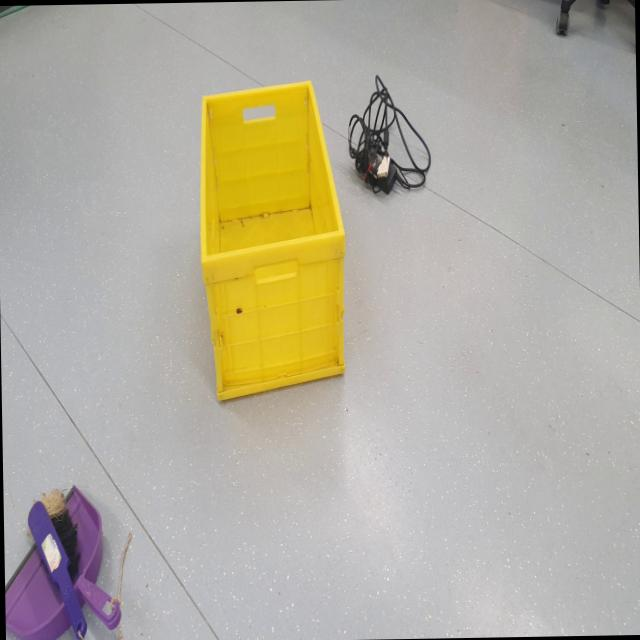box: (185, 58, 350, 407)
